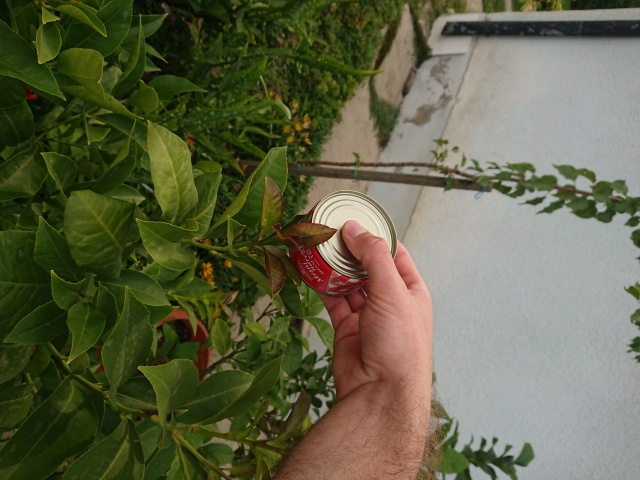Podravka Luncheon Meat 150g: (287, 188, 401, 300)
